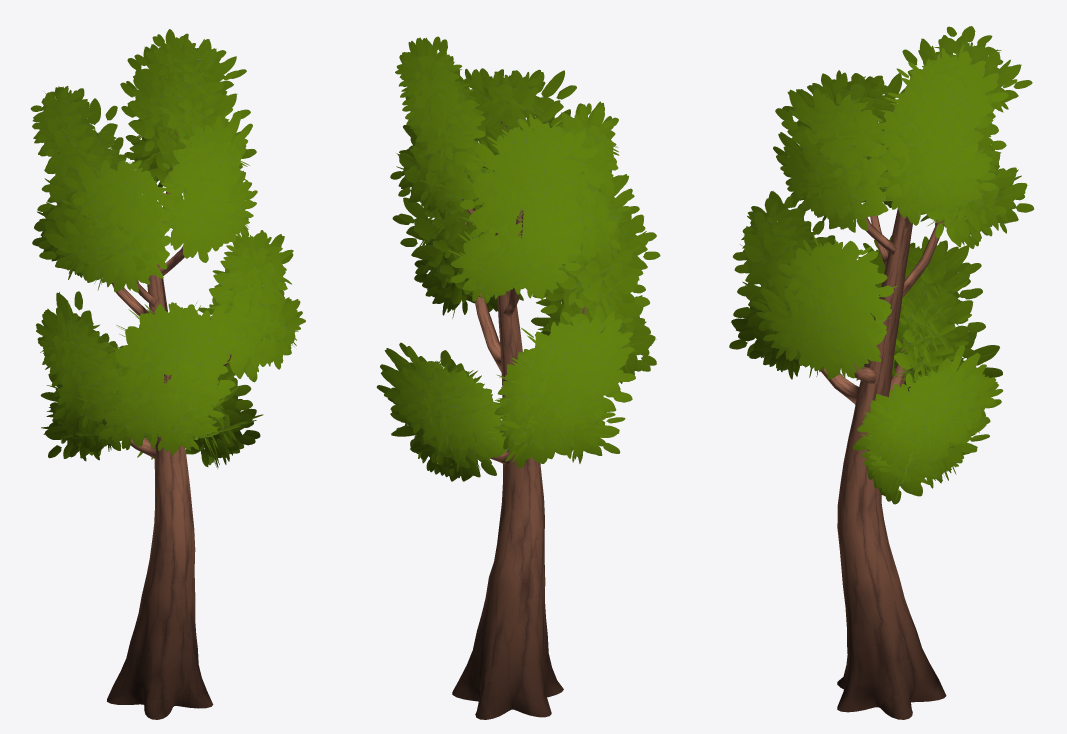
Rendered from CommonTree_3.glb.
3 views of the same model, side by side, from view 1: azimuth 30°, elevation 25°; view 2: azimuth 150°, elevation 25°; view 3: azimuth 270°, elevation 25° (orthographic). The views are drawn at different scales.
Visible parts, largest first — view 1: CommonTree_3; view 2: CommonTree_3; view 3: CommonTree_3.
Boxes of the visible parts, box(x1,y1,x2,y2) form: CommonTree_3: box(30, 29, 305, 719); CommonTree_3: box(376, 36, 660, 719); CommonTree_3: box(729, 26, 1033, 719).
Size of the model in its own units: 4.06 by 9.43 by 4.24.
Materials: 2 (2 with a texture image).
